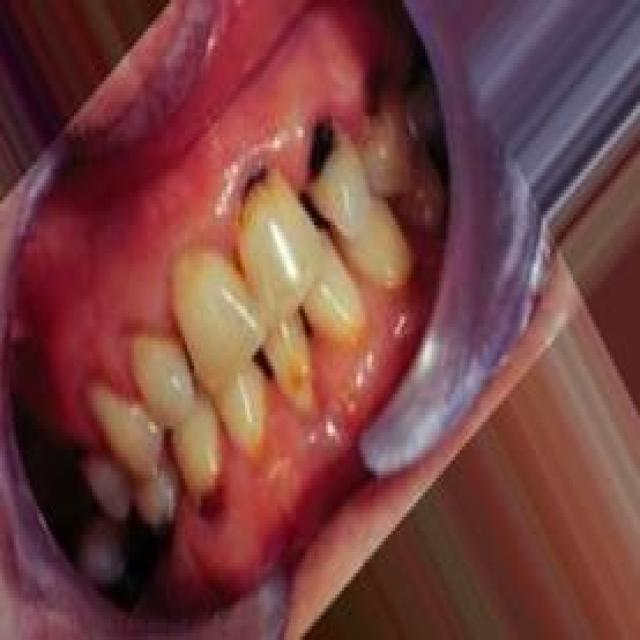caries: (295, 98, 346, 194), (226, 153, 276, 230), (195, 471, 235, 532)
